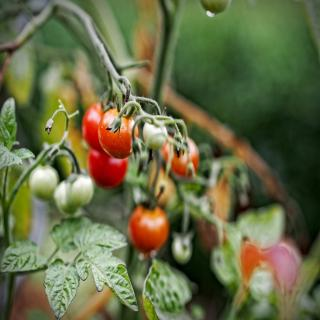tomato: (128, 202, 170, 255), (84, 141, 129, 189), (98, 107, 140, 157), (167, 135, 200, 175), (29, 167, 60, 201), (64, 173, 95, 207), (82, 102, 104, 148)
